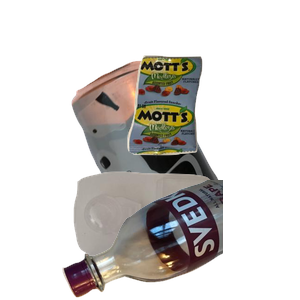glass: (60, 180, 300, 300)
metal: (69, 58, 300, 238)
plastic: (71, 169, 275, 300)
trash: (125, 53, 300, 201)
